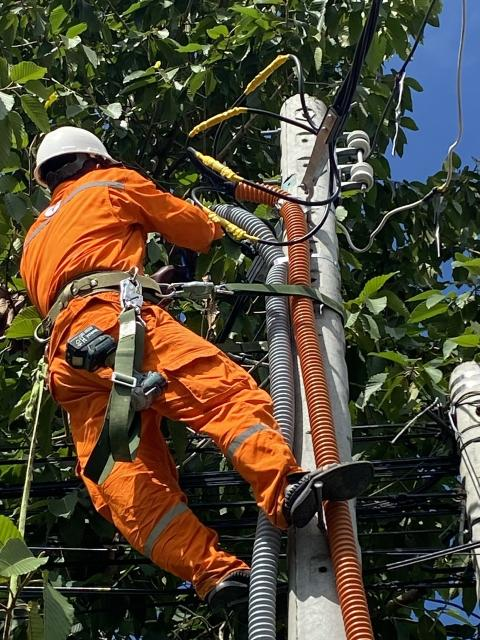harness: (47, 247, 226, 318)
helmet: (21, 119, 142, 191)
shoes: (269, 459, 383, 520), (188, 559, 283, 623)
